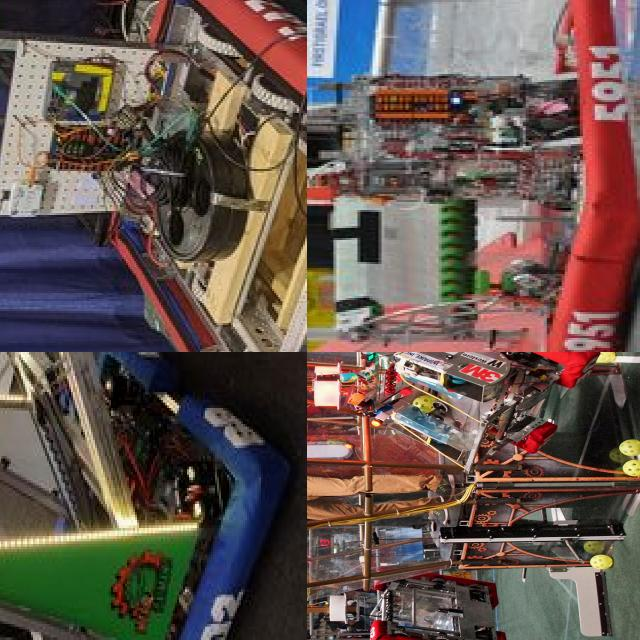FRC-Robots: (307, 0, 635, 352), (3, 0, 307, 352), (0, 352, 283, 640), (334, 352, 605, 469), (322, 570, 523, 640)
